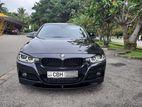car: (14, 21, 112, 93)
